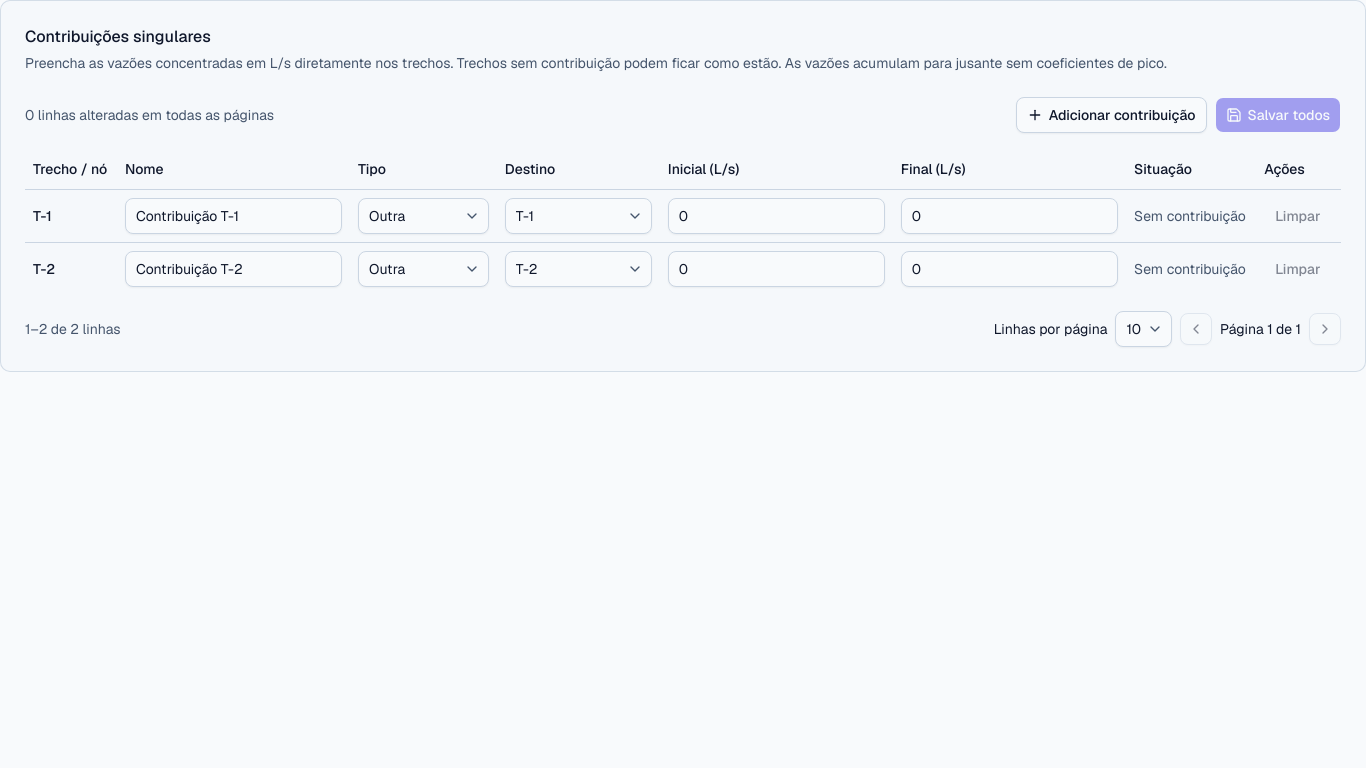
Test: contribution grid › keeps failed drafts and retries only unsaved rows after partial success
The image size is (1366, 768).
Type "2" into the number field named "Vazão inicial (L/s) T-1". click: (776, 216)
box: [668,198,885,234]
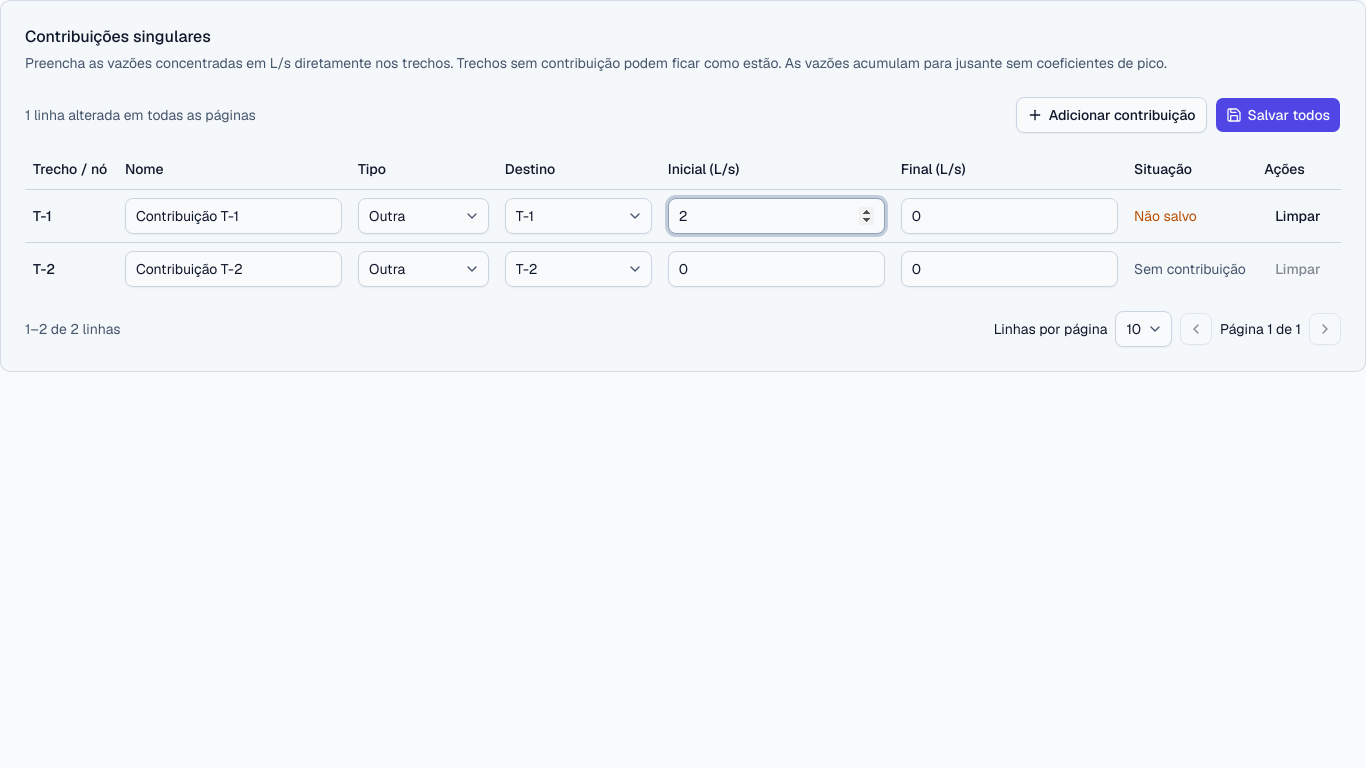
Type "3" into the number field named "Vazão inicial (L/s) T-2". click: (776, 268)
box: [668,250,885,286]
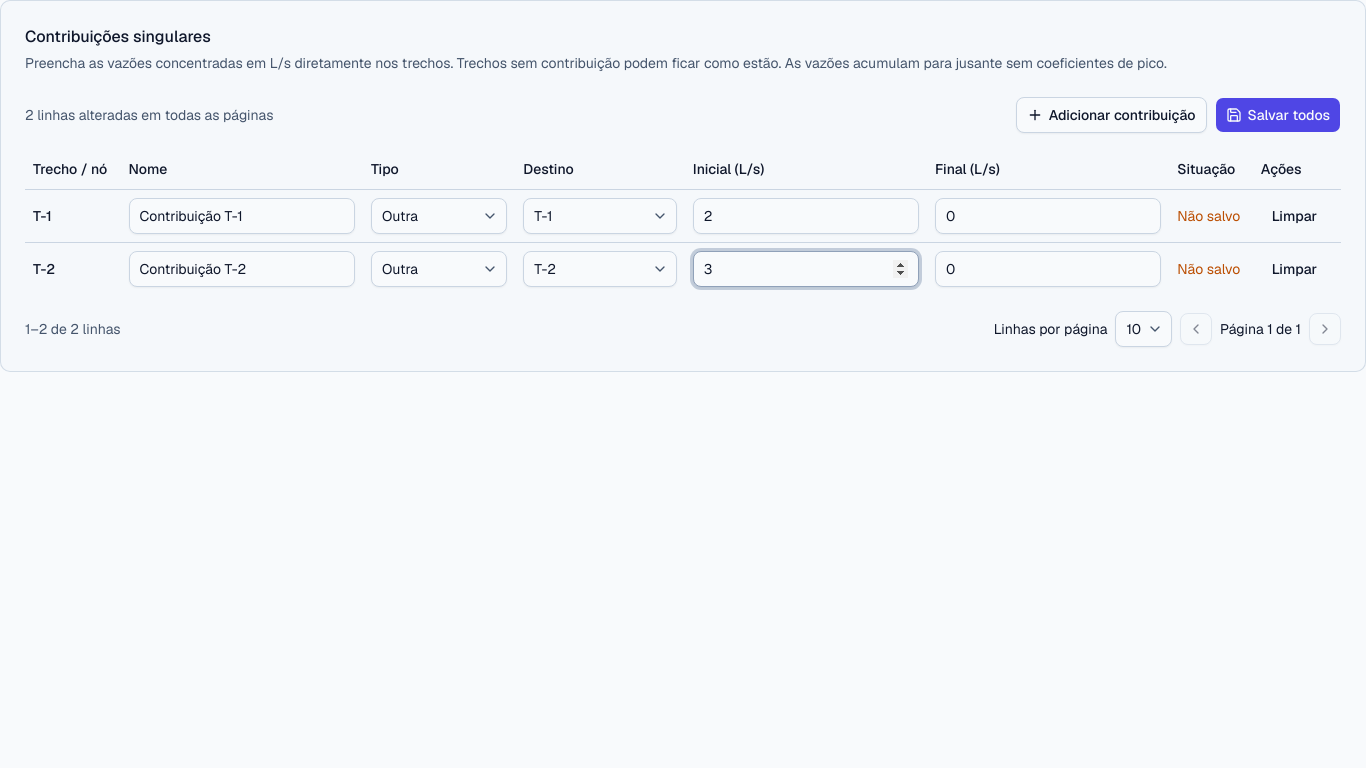
Click the button "Salvar todos". click: click(1278, 115)
box: [1214,97,1341,133]
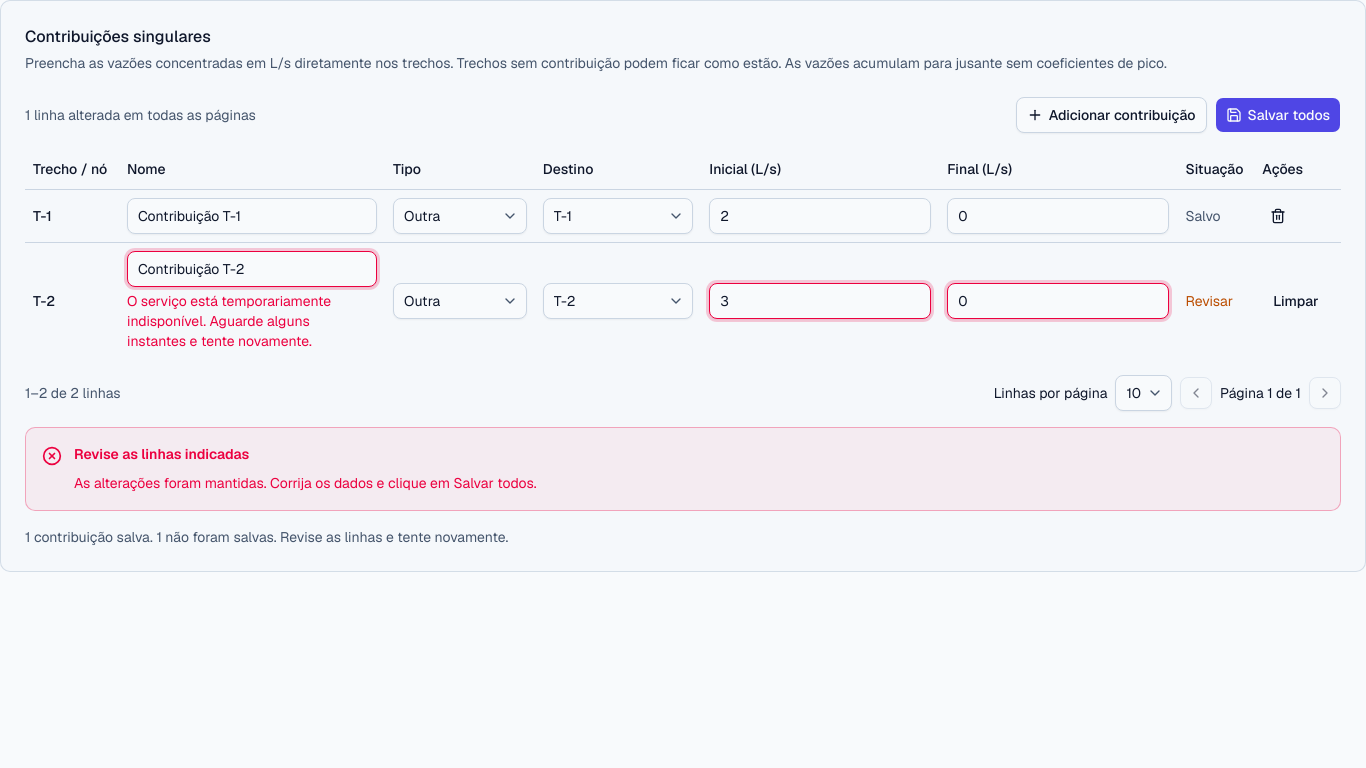
Now the button "Salvar todos" is enabled
Now the text "1 contribuição salva. 1 não foram salvas. Revise as linhas e tente novamente." is shown, box [25,528,508,546]
Click the button "Salvar todos". click: click(1278, 115)
box: [1214,97,1341,133]
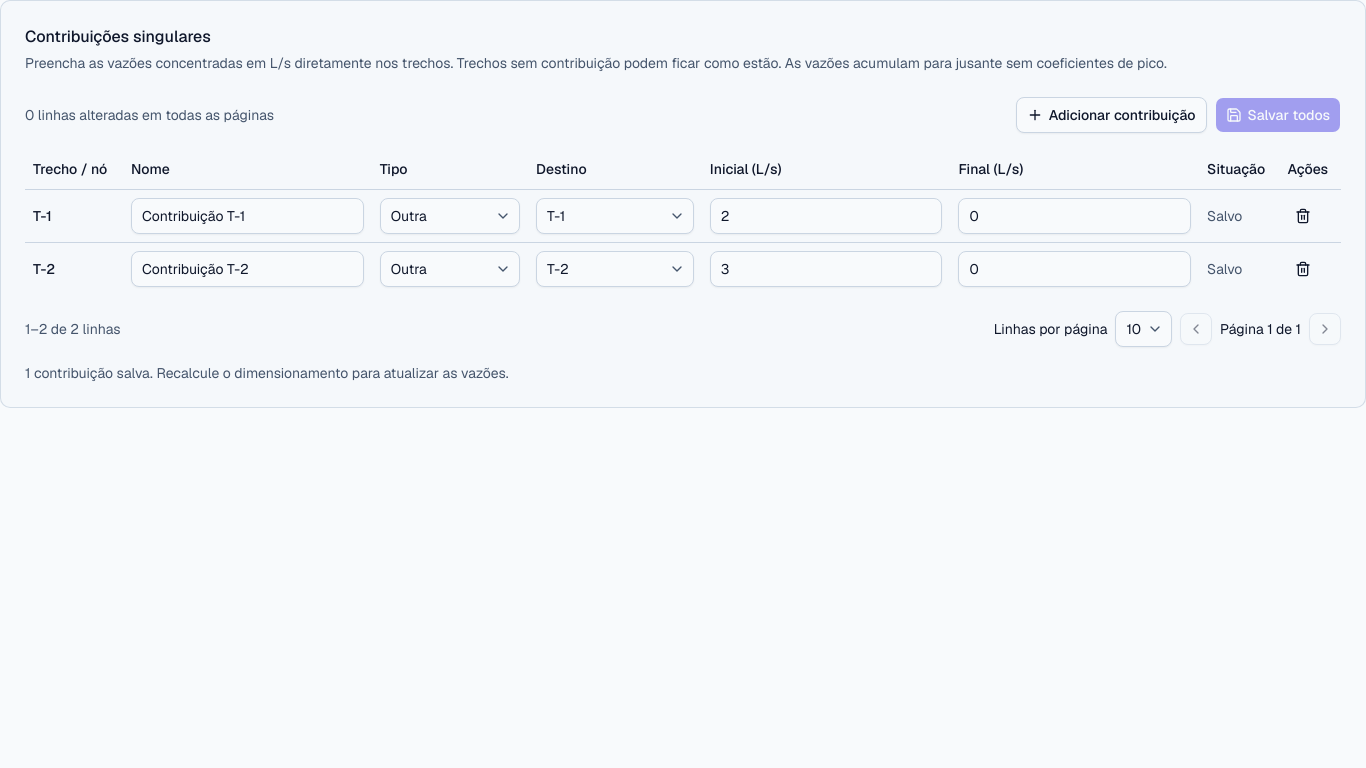
Now the text "1 contribuição salva. Recalcule o dimensionamento para atualizar as vazões." is shown, box [25,364,508,382]
